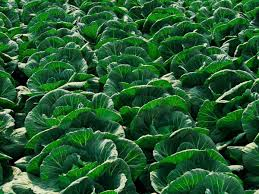cabbage: (46, 141, 115, 185), (128, 105, 191, 143), (28, 63, 74, 97), (116, 61, 156, 91)
